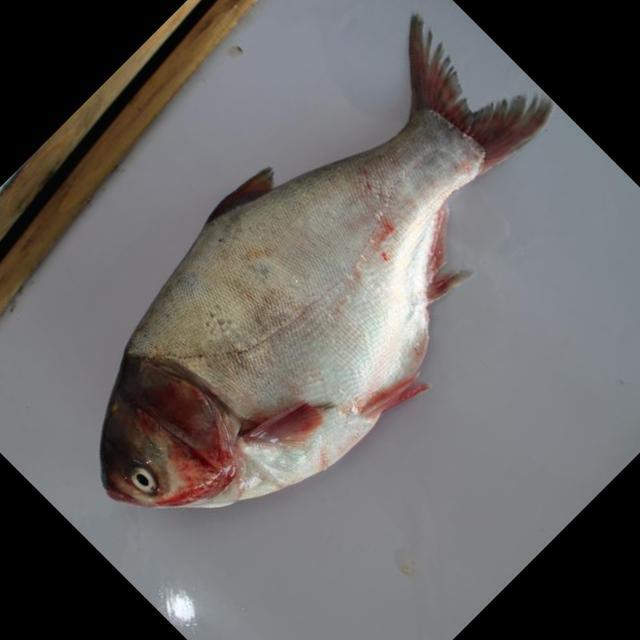SilverCarp: (90, 27, 565, 515)
